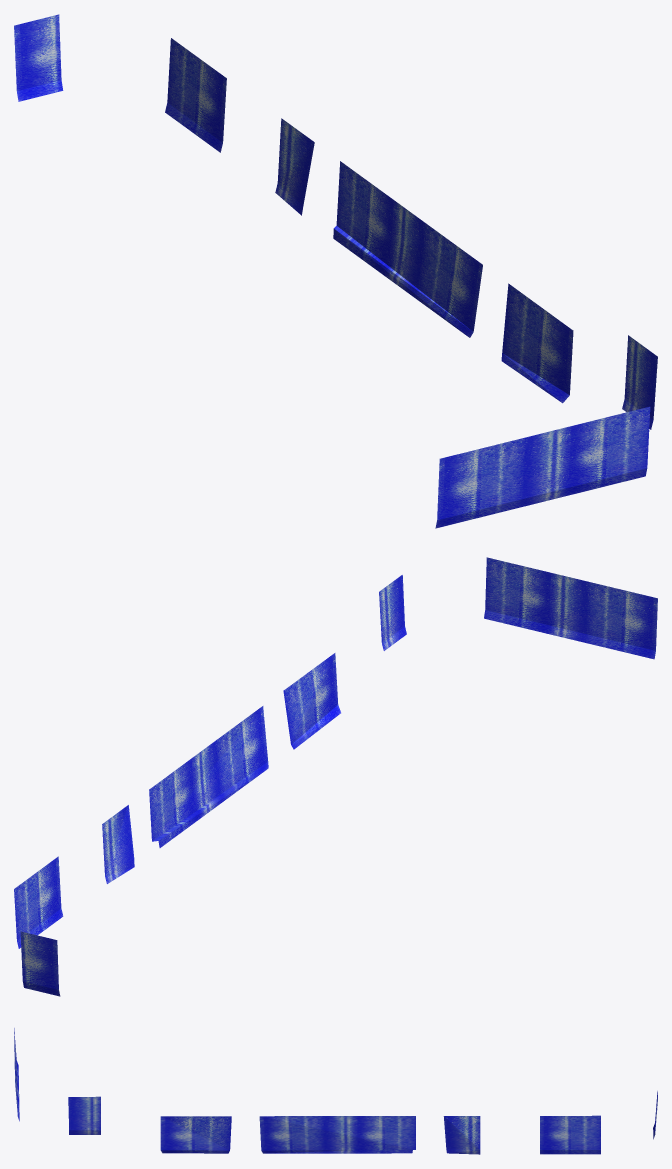
3 renders of one model, top to bottom at view 1: azimuth 30°, elevation 25°; view 2: azimuth 150°, elevation 25°; view 3: azimuth 270°, elevation 25°, orthographic. The views are drawn at different scales.
Size of the model in its own units: 0.3904 by 0.1516 by 1.48.
1 material, 1 textured.
